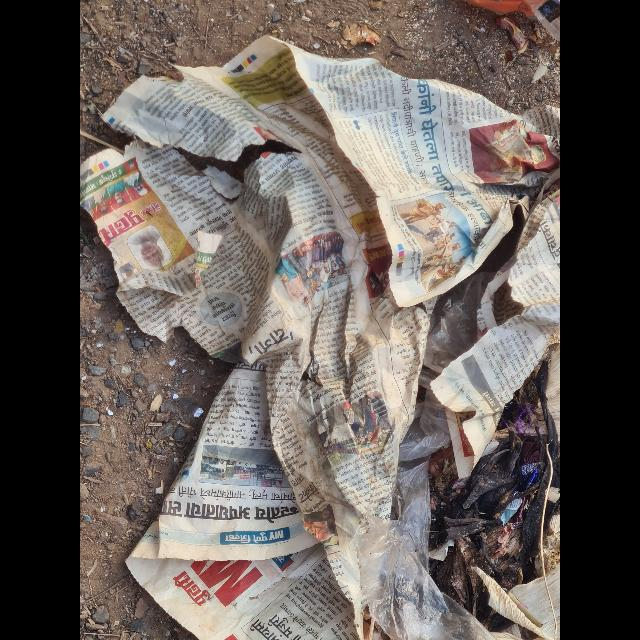trash: (81, 35, 558, 639), (280, 41, 558, 310), (155, 364, 321, 562)
